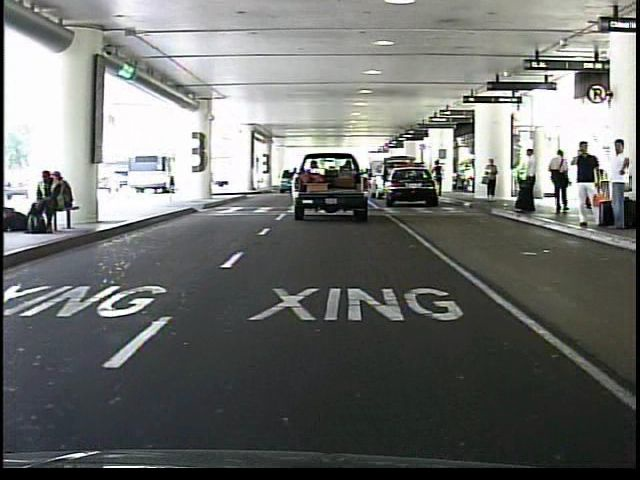person: (567, 138, 603, 230), (604, 136, 631, 236), (549, 145, 575, 217), (514, 146, 540, 217), (482, 158, 501, 205), (432, 159, 445, 199)
